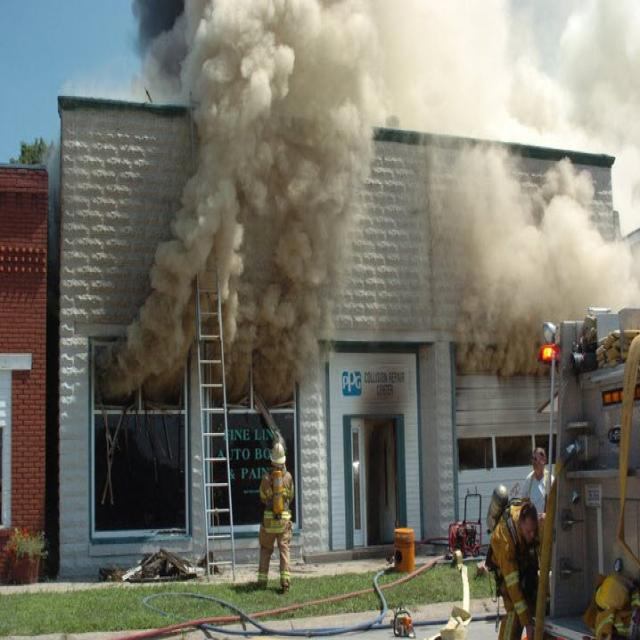Smoke: (124, 0, 365, 424), (443, 145, 640, 373), (367, 0, 638, 135)
